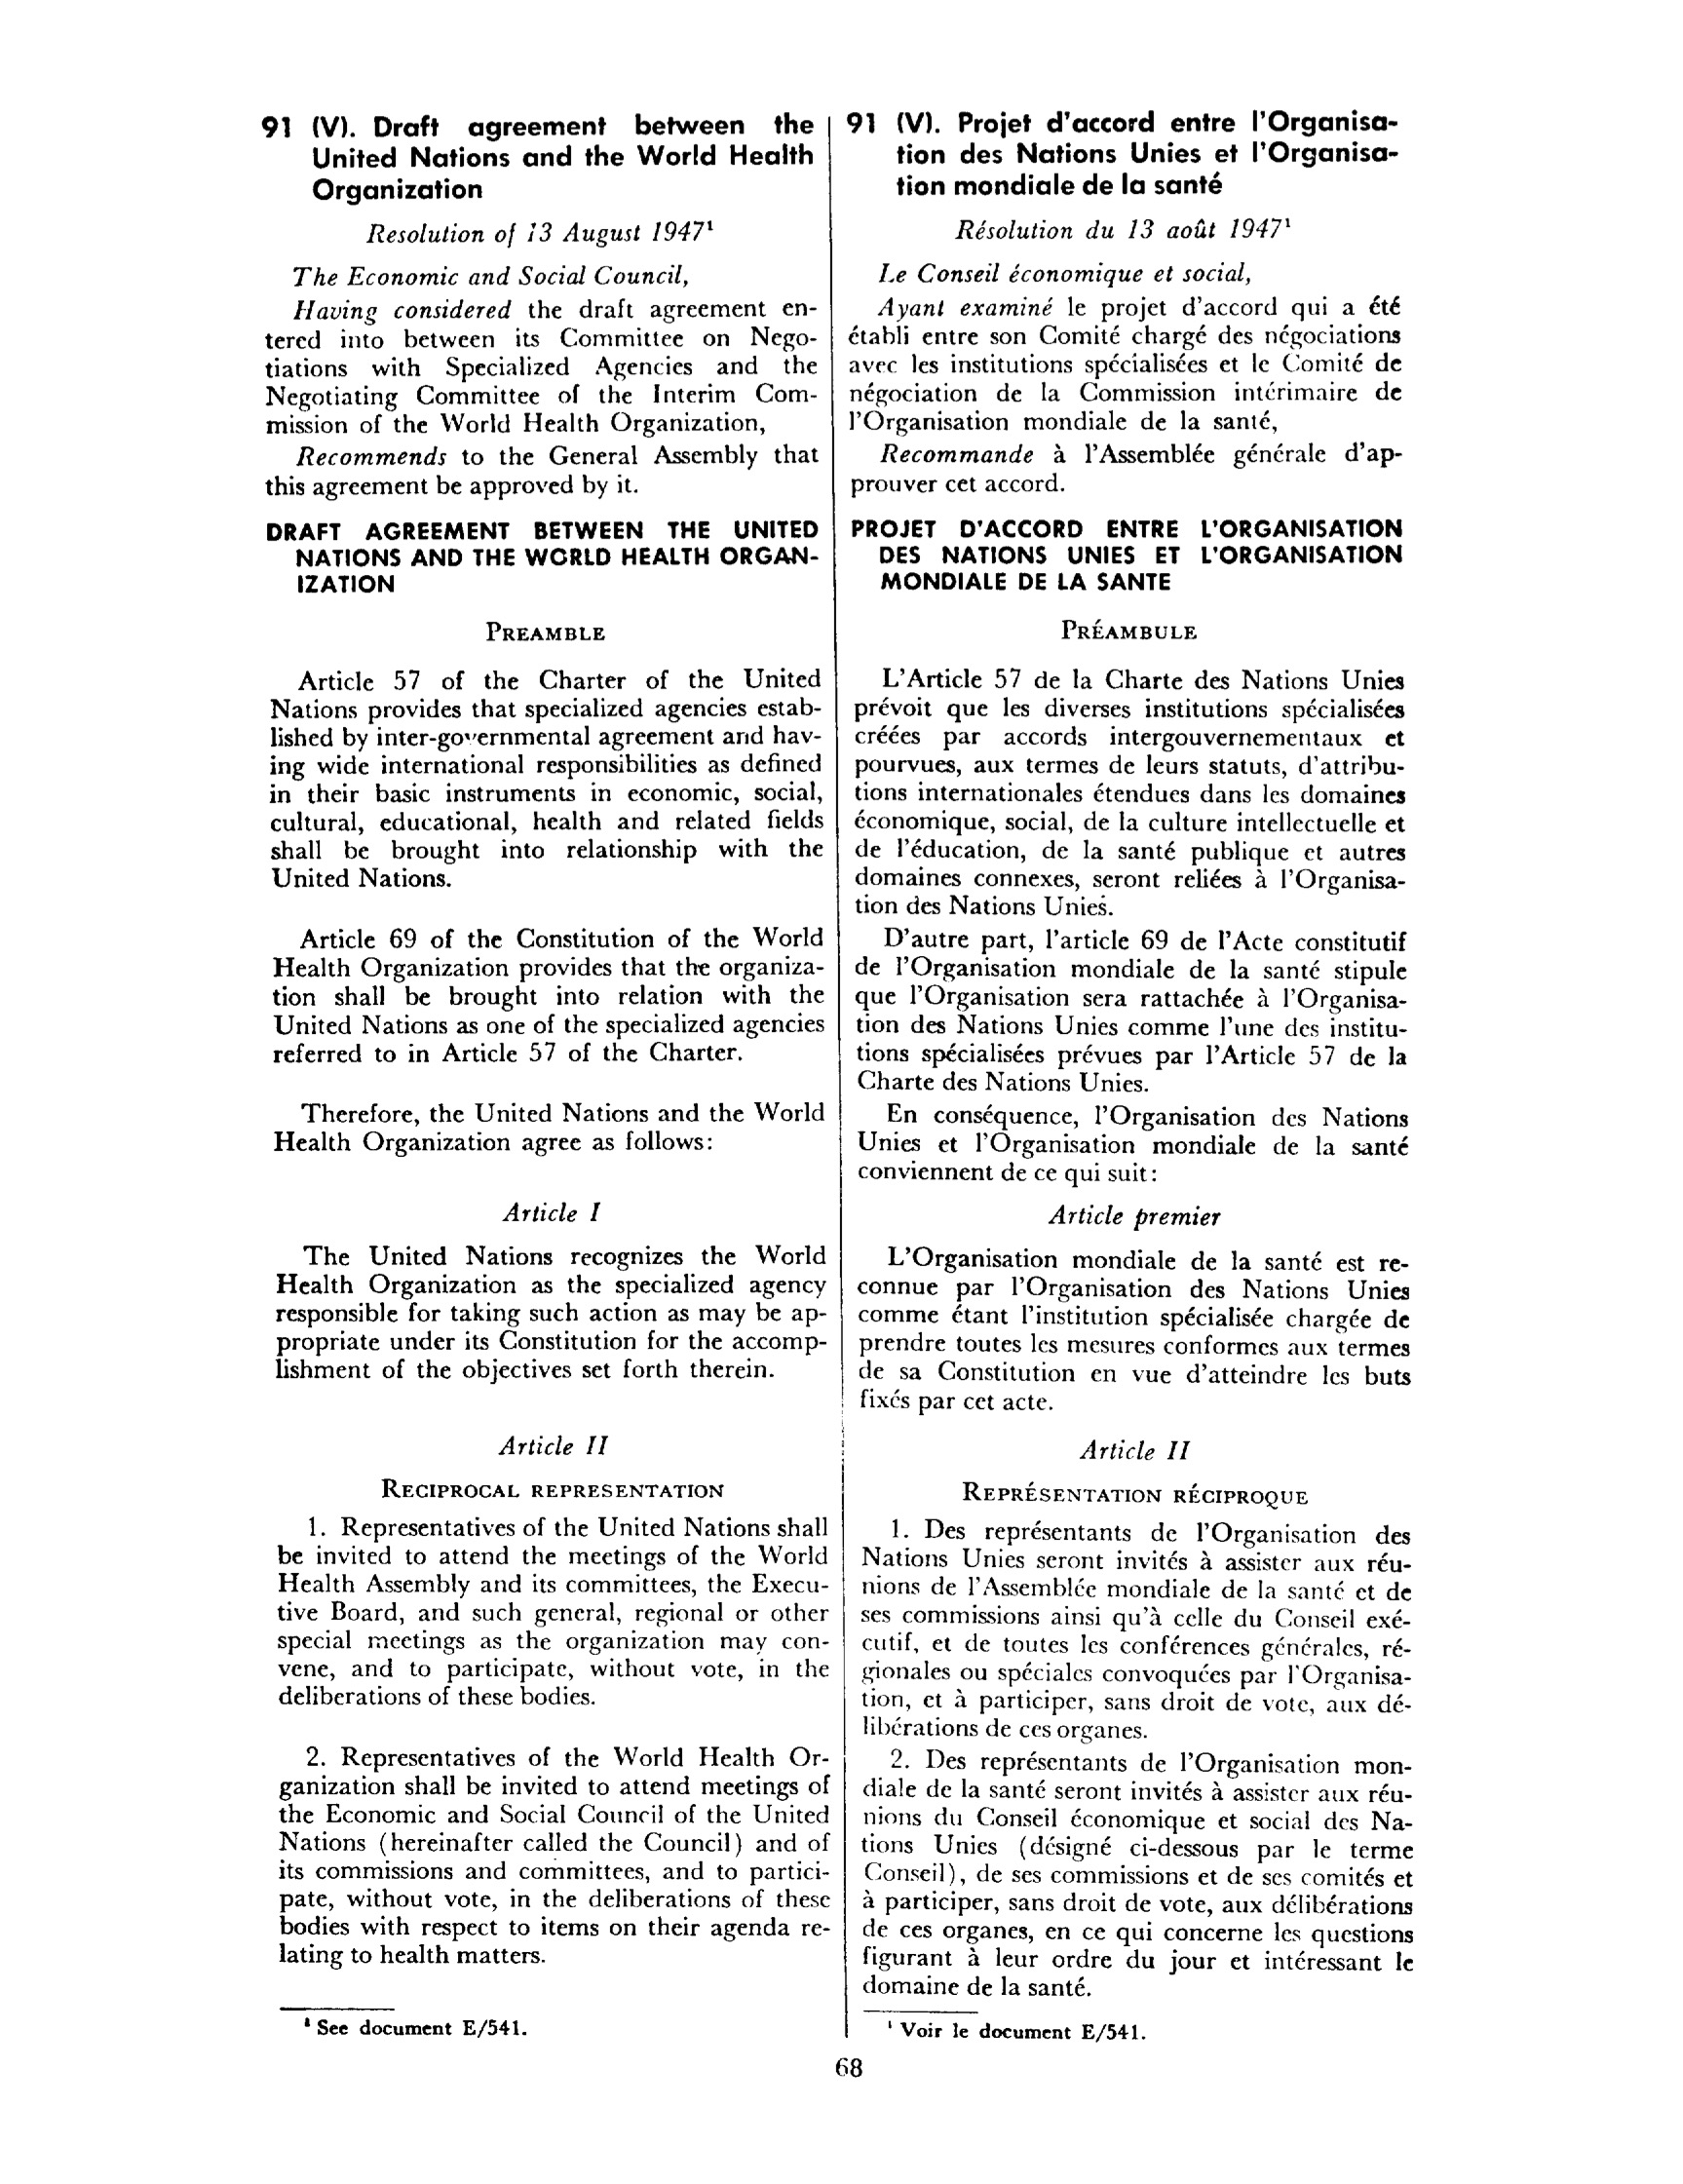MainZone-Head: (248, 109, 821, 207), (842, 102, 1401, 200), (845, 509, 1408, 600), (257, 513, 824, 600), (940, 211, 1299, 248), (955, 1475, 1315, 1511), (355, 210, 720, 245), (376, 1472, 731, 1504), (1042, 1199, 1229, 1238), (489, 1424, 618, 1466), (1054, 614, 1205, 649), (478, 613, 615, 651), (1074, 1430, 1199, 1470), (495, 1190, 610, 1233)
MainZone-ListItem: (858, 1744, 1421, 2004), (272, 1738, 835, 1975), (856, 1513, 1420, 1743), (269, 1510, 836, 1714)
MainZone-P: (849, 662, 1414, 920), (262, 662, 829, 897), (854, 1243, 1419, 1420), (850, 924, 1415, 1097), (268, 1238, 831, 1391), (267, 920, 830, 1071), (843, 290, 1410, 438), (252, 293, 822, 438), (853, 1098, 1416, 1192), (266, 1095, 829, 1165), (258, 441, 824, 502), (845, 439, 1406, 499), (861, 256, 1262, 288), (278, 258, 703, 287)
MarginTextZone-Notes: (291, 2009, 539, 2051), (881, 2012, 1157, 2050)
NumberingZone: (829, 2050, 870, 2088)
